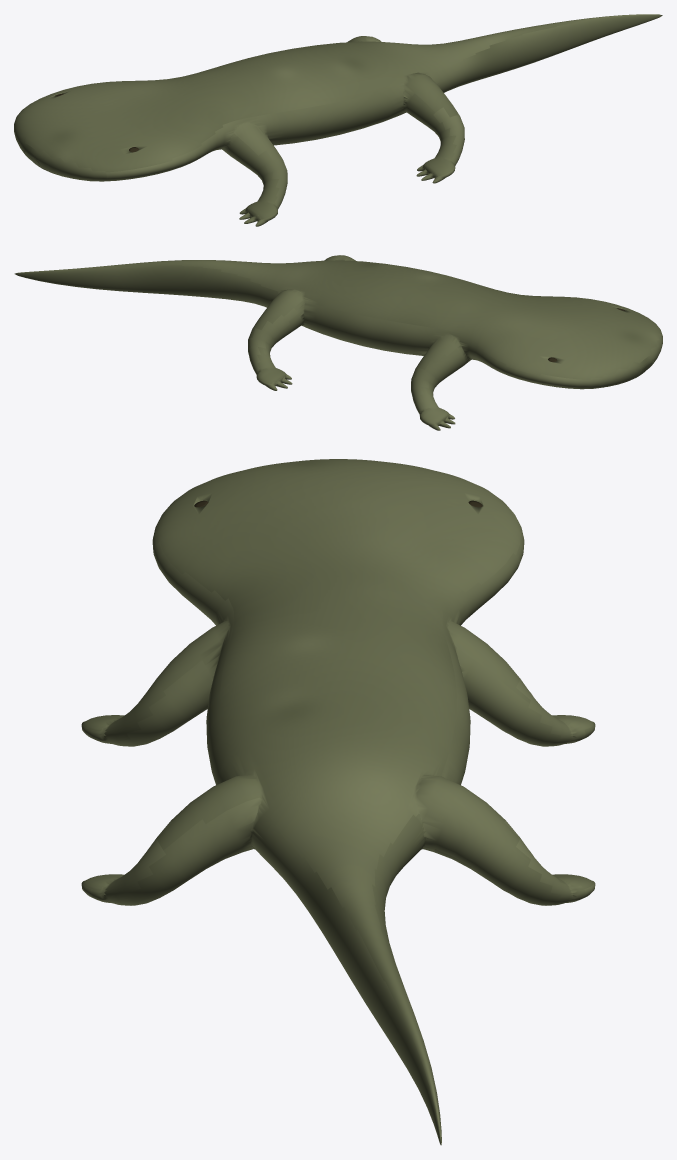
3 renders of one model, top to bottom at view 1: azimuth 30°, elevation 25°; view 2: azimuth 150°, elevation 25°; view 3: azimuth 270°, elevation 25°, orthographic. The views are drawn at different scales.
Parts seen in each view (by area): view 1: Koolasuchus cleelandi continuous living skin; view 2: Koolasuchus cleelandi continuous living skin; view 3: Koolasuchus cleelandi continuous living skin.
Part boxes in pixels (x1,y1,x2,y2): Koolasuchus cleelandi continuous living skin: (14, 14, 662, 226); Koolasuchus cleelandi continuous living skin: (14, 255, 662, 430); Koolasuchus cleelandi continuous living skin: (81, 459, 595, 1145).
Bounding box in the file's own units: 1 × 0.129 × 0.3652.
Materials: 2 (1 with a texture image).
